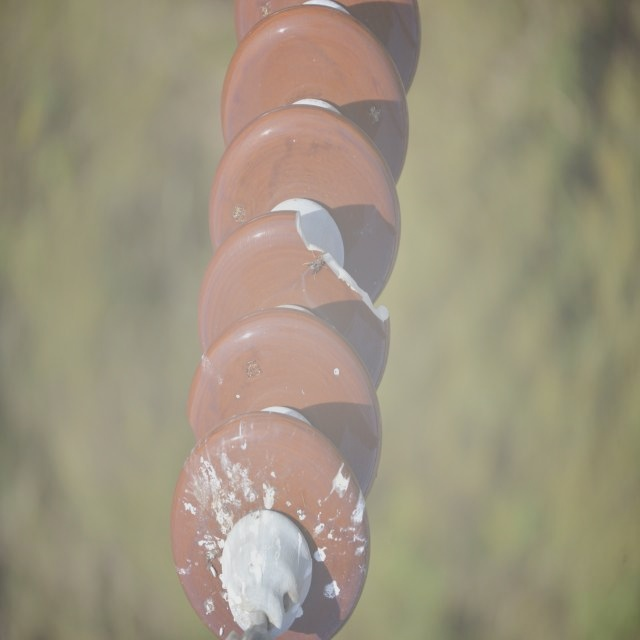broken: (294, 208, 391, 324)
insulator: (172, 0, 422, 633)
